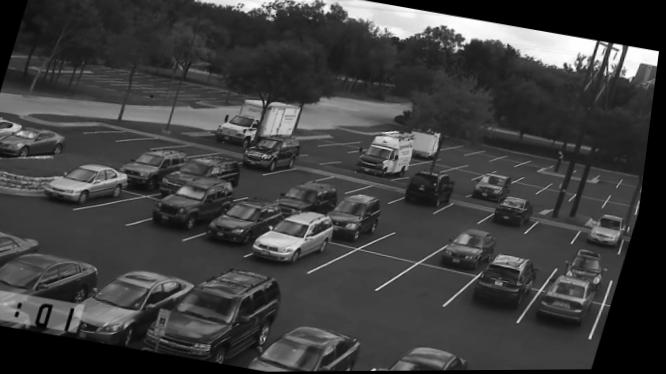empty: (314, 246, 411, 289), (398, 265, 481, 303), (82, 192, 165, 227), (528, 218, 587, 248), (385, 225, 440, 253), (519, 244, 563, 271), (320, 172, 374, 194), (443, 202, 495, 224), (272, 165, 330, 182), (362, 179, 407, 199), (238, 180, 279, 198), (573, 196, 615, 211), (538, 188, 580, 203), (103, 129, 158, 140), (553, 179, 590, 194), (327, 142, 373, 154), (446, 168, 485, 182), (608, 203, 643, 218), (175, 144, 221, 155), (611, 192, 644, 207), (525, 172, 560, 186), (598, 174, 629, 189), (619, 178, 648, 193), (523, 159, 559, 171), (516, 181, 549, 194), (583, 186, 616, 199), (467, 159, 500, 172), (499, 167, 533, 179), (453, 179, 478, 195), (416, 161, 455, 171), (439, 154, 473, 165), (531, 197, 553, 212), (496, 155, 528, 165), (135, 140, 184, 146), (449, 146, 480, 155), (474, 151, 503, 160)
occupied: (143, 268, 293, 364), (57, 270, 205, 344), (0, 251, 104, 321), (250, 320, 385, 372), (256, 208, 344, 269), (207, 195, 289, 248), (472, 254, 548, 310), (162, 177, 239, 232), (379, 337, 496, 372), (541, 270, 607, 326), (48, 165, 132, 203), (442, 229, 502, 272), (360, 132, 417, 177), (246, 132, 304, 176), (127, 151, 189, 190), (334, 197, 387, 242), (406, 171, 460, 215), (283, 184, 351, 216), (0, 126, 69, 157), (173, 156, 243, 182), (0, 228, 44, 265), (497, 196, 540, 229), (477, 173, 516, 204), (593, 217, 631, 247), (576, 252, 608, 280)
